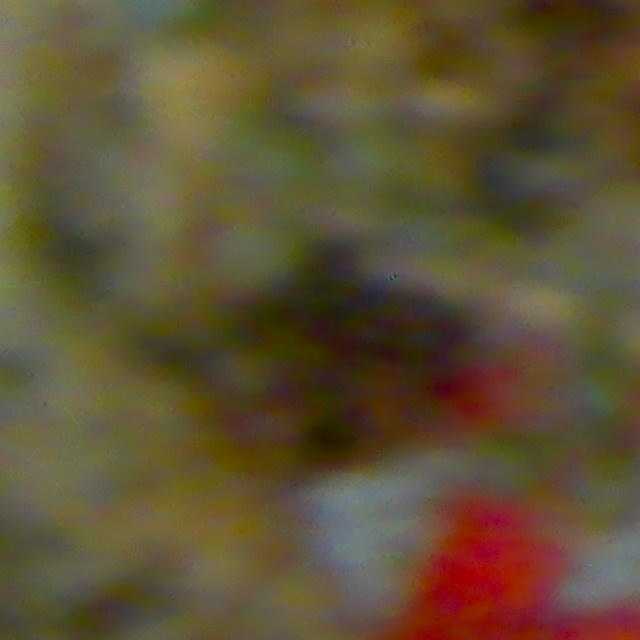SeaGrape: (207, 213, 304, 300), (564, 362, 636, 437), (571, 449, 640, 527)
